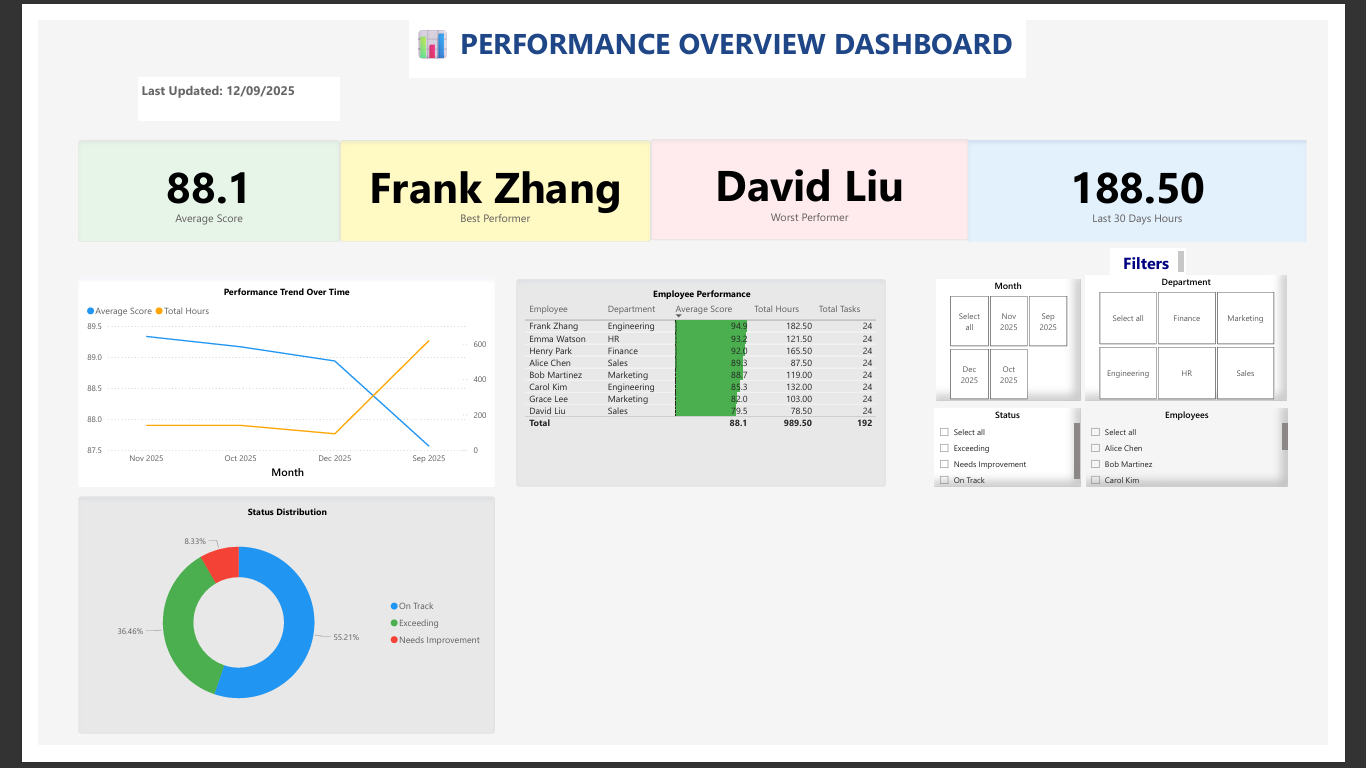

The dashboard page shown, as its layout file describes it:
{"tool":"powerbi","page":{"name":"Page 1","canvas":[1920,1080],"ordinal":0},"visuals":[{"type":"textbox","box":[553,0,918,86.4],"z":0},{"type":"textbox","box":[149,86.4,300.2,64.8],"z":1000},{"type":"card","title":"Average Score","fields":{"Values":["PerformanceData.Average Score"]},"box":[60.5,179.3,388.8,151.2],"z":2000},{"type":"card","fields":{"Values":["PerformanceData.Best Performer"]},"box":[449.3,179.3,462.2,151.2],"z":3000},{"type":"card","fields":{"Values":["PerformanceData.Worst Performer"]},"box":[911.5,177.1,473,151.2],"z":4000},{"type":"card","fields":{"Values":["PerformanceData.Last 30 Days Hours"]},"box":[1384.6,179.3,503.3,151.2],"z":5000},{"type":"lineChart","title":"Performance Trend Over Time","fields":{"Y":["PerformanceData.Average Score"],"Y2":["PerformanceData.Total Hours"],"Category":["PerformanceData.Month"]},"box":[60.5,384.5,619.9,311],"z":6000},{"type":"donutChart","title":" Status Distribution","fields":{"Category":["PerformanceData.Status"],"Y":["PerformanceData.Status"]},"box":[60,710,620,353.3],"z":7000},{"type":"tableEx","title":" Employee Performance ","fields":{"Values":["PerformanceData.Employee","PerformanceData.Department","PerformanceData.Average Score","PerformanceData.Total Hours","PerformanceData.Total Tasks"]},"box":[711.9,385.7,550,309.5],"z":8000},{"type":"slicer","title":"Employees","fields":{"Values":["PerformanceData.Employee"]},"box":[1560.5,579.1,300,116.3],"z":9000},{"type":"slicer","title":"Department","fields":{"Values":["PerformanceData.Department"]},"box":[1559,380.7,300,186.7],"z":10000},{"type":"slicer","title":"Status","fields":{"Values":["PerformanceData.Status"]},"box":[1334.9,579.1,216.3,116.3],"z":11000},{"type":"slicer","title":"Month","fields":{"Values":["PerformanceData.Month"]},"box":[1337.3,386.7,213.3,180.7],"z":12000},{"type":"textbox","box":[1596.7,340,113.3,41.1],"z":13000}]}

Visuals, with their boxes in screenshot pixels (x1, y1, x2, y2), scaled from the page's 1920x1080 canvas onto the 1366x768 screenshot:
textbox: 393, 0, 1047, 61
textbox: 106, 61, 320, 108
"Average Score" card: 43, 128, 320, 235
card - PerformanceData.Best Performer: 320, 128, 648, 235
card - PerformanceData.Worst Performer: 648, 126, 985, 233
card - PerformanceData.Last 30 Days Hours: 985, 128, 1343, 235
"Performance Trend Over Time" lineChart: 43, 273, 484, 495
" Status Distribution" donutChart: 43, 505, 484, 756
" Employee Performance " tableEx: 506, 274, 898, 494
"Employees" slicer: 1110, 412, 1324, 495
"Department" slicer: 1109, 271, 1323, 403
"Status" slicer: 950, 412, 1104, 495
"Month" slicer: 951, 275, 1103, 403
textbox: 1136, 242, 1217, 271
